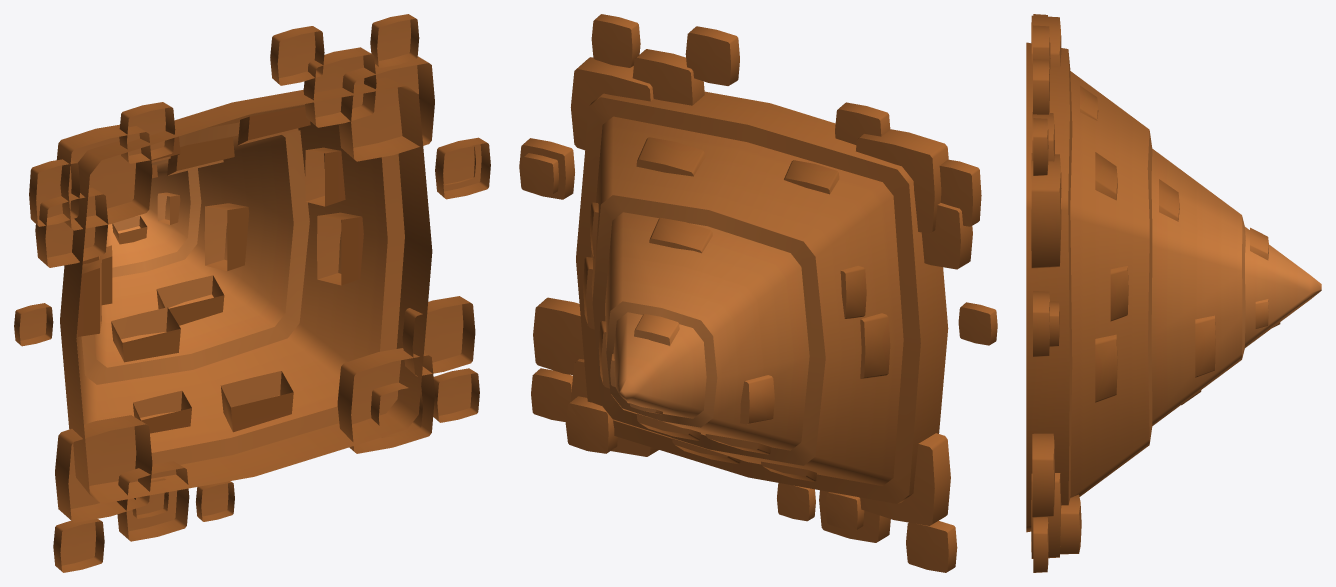
3 views of the same model, side by side, from view 1: azimuth 30°, elevation 25°; view 2: azimuth 150°, elevation 25°; view 3: azimuth 270°, elevation 25° (orthographic).
Parts seen in each view (by area): view 1: Pyramid 01; view 2: Pyramid 01; view 3: Pyramid 01.
Part boxes in pixels (left/top/right/bottom): Pyramid 01: left=14, top=14, right=490, bottom=572; Pyramid 01: left=519, top=14, right=997, bottom=572; Pyramid 01: left=1026, top=14, right=1321, bottom=572.
Bounding box in the file's own units: 1075 × 1051 × 588.
1 material, 1 textured.
